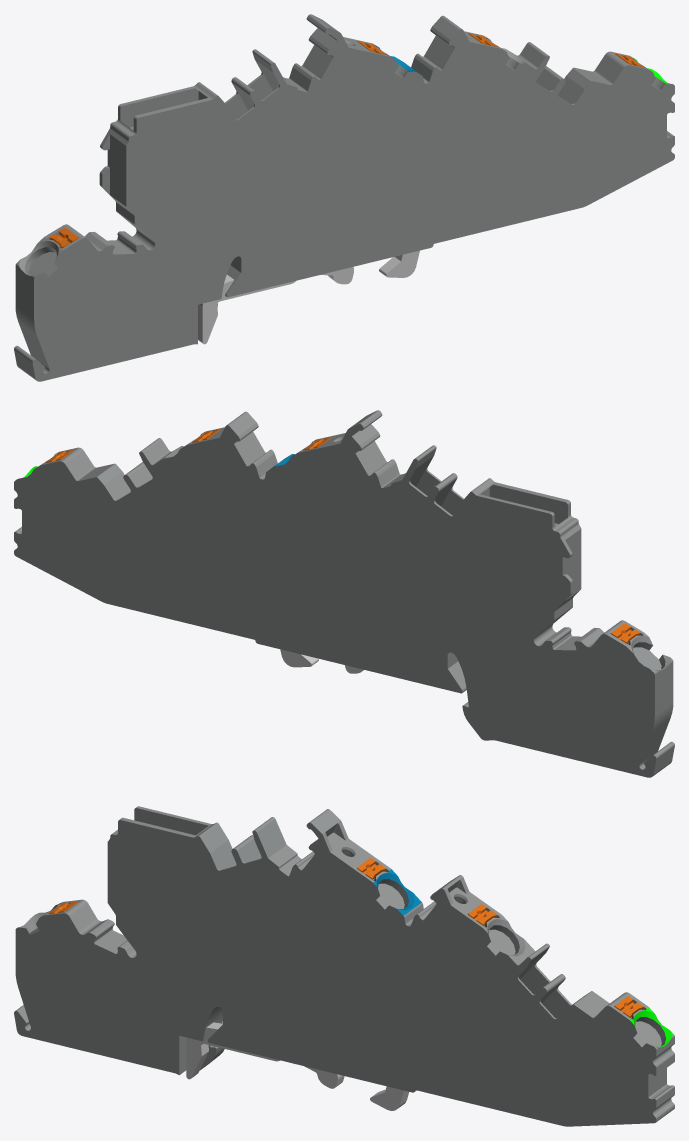
The model's file is Wago.2205-7641.glb.
The picture shows the model from 3 angles, top to bottom: view 1: azimuth 30°, elevation 25°; view 2: azimuth 150°, elevation 25°; view 3: azimuth 330°, elevation 25°; orthographic projection.
Parts seen in each view (by area): view 1: 2205-7641_HI; view 2: 2205-7641_HI; view 3: 2205-7641_HI.
Boxes of the visible parts, x1,y1,x2,y2 form: 2205-7641_HI: [14, 14, 674, 381]; 2205-7641_HI: [14, 410, 674, 777]; 2205-7641_HI: [14, 806, 674, 1126].
Size of the model in its own units: 123 by 52.78 by 6.2.
